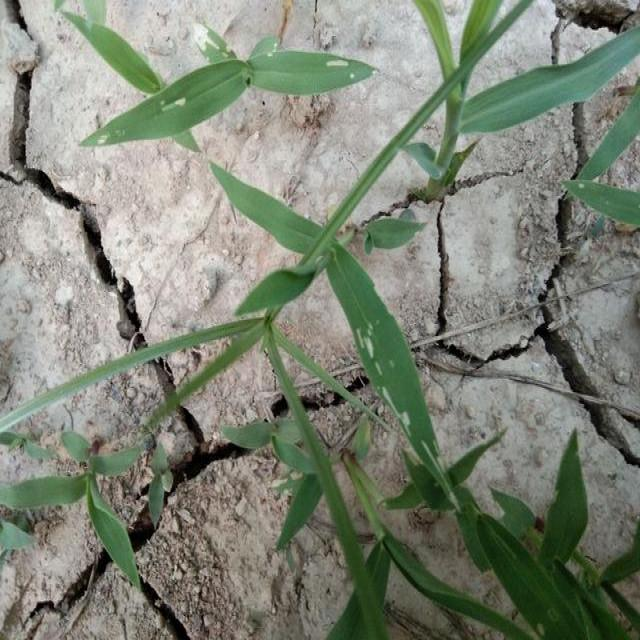weed: (223, 166, 443, 460), (74, 9, 373, 140), (428, 10, 634, 129), (0, 449, 154, 577)
